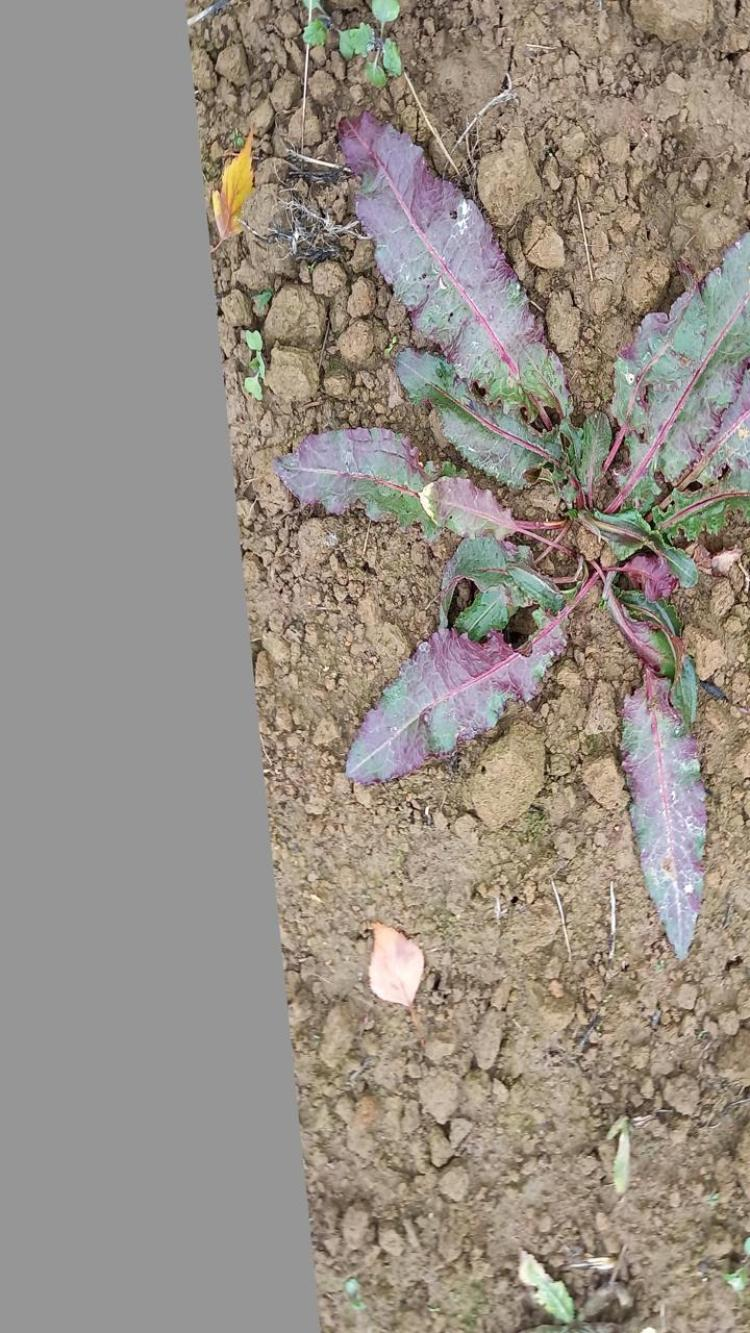zhavel: (277, 106, 750, 960)
